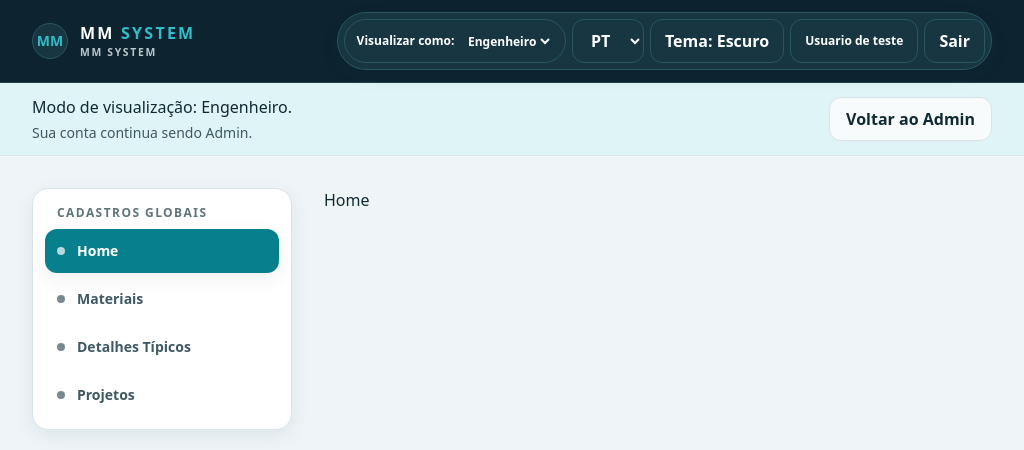
role preview controls › renders the active preview banner and returns to Admin on request
Expected: the message shows "Modo de visualização: Engenheiro.", [32,96,292,118]
Expected: the message shows "Sua conta continua sendo Admin.", [32,123,252,142]
Click the button "Voltar ao Admin" at x=911, y=119, box [829,97,992,141]
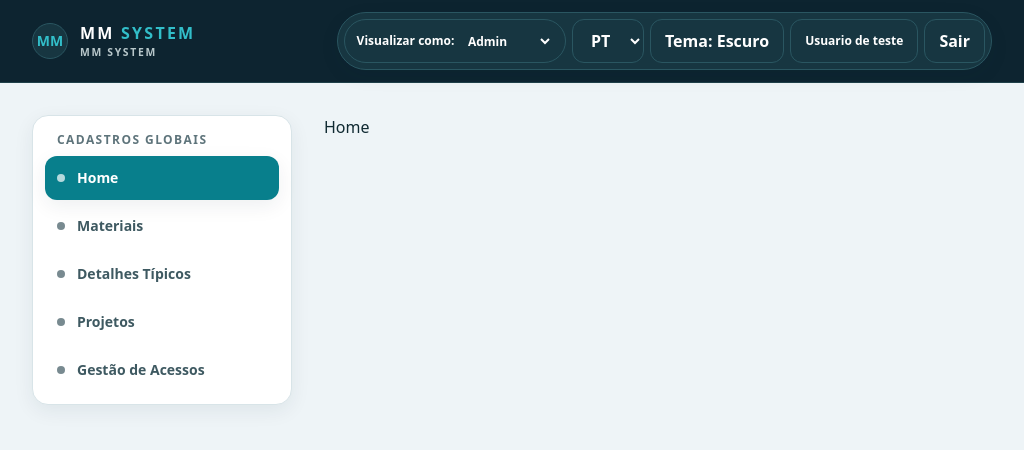
Expected: the message is gone
